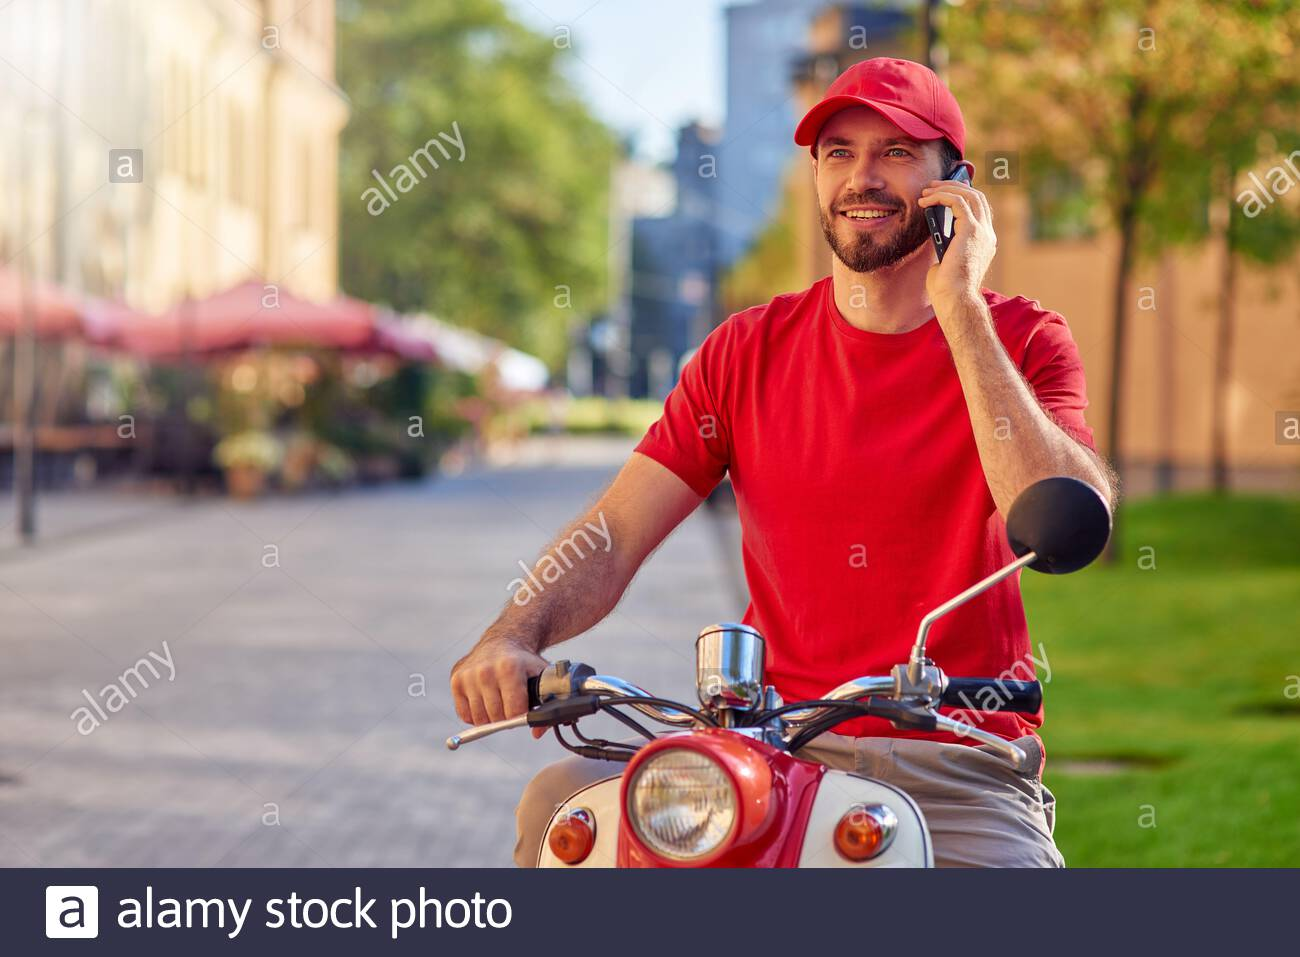dieu khien xe may: (531, 55, 1034, 865)
su dung dien thoai: (791, 59, 998, 323)
